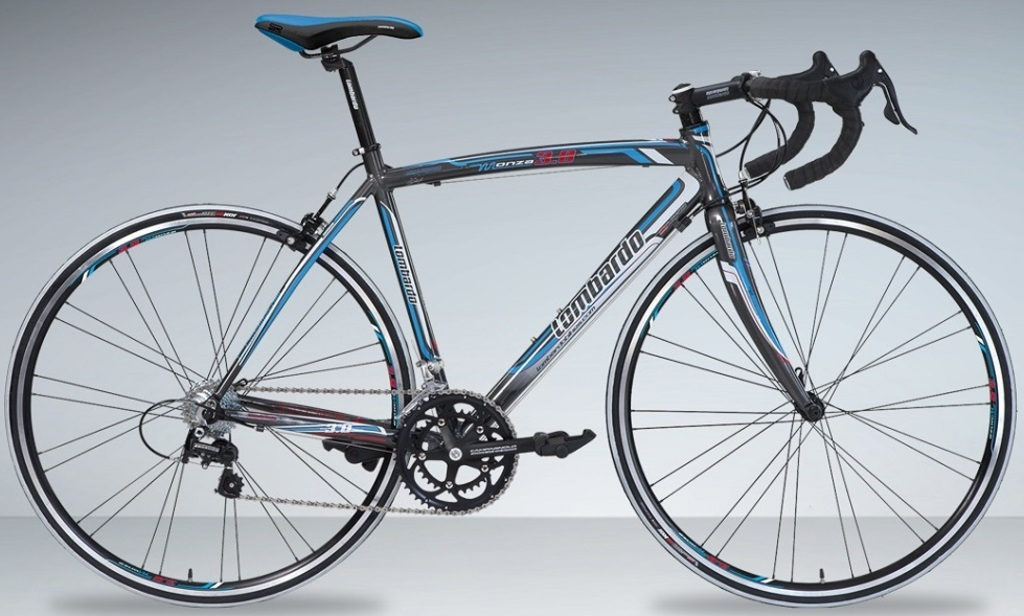Bike: (23, 13, 1024, 608)
